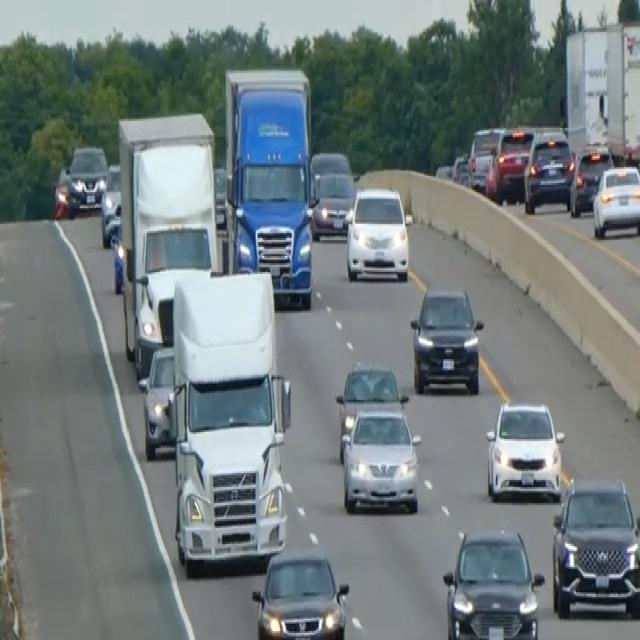car: (550, 474, 639, 618), (441, 524, 544, 638), (250, 546, 349, 638), (341, 402, 421, 514), (484, 398, 565, 502), (409, 282, 484, 394), (334, 359, 407, 459), (344, 185, 411, 283), (523, 130, 575, 213), (139, 343, 176, 459), (486, 126, 534, 204), (592, 162, 639, 238), (569, 140, 613, 217), (311, 169, 356, 240), (67, 142, 108, 212), (466, 124, 504, 192), (309, 147, 352, 201), (99, 162, 122, 245), (52, 164, 71, 218)
lorry: (167, 268, 292, 574), (222, 64, 316, 309)
